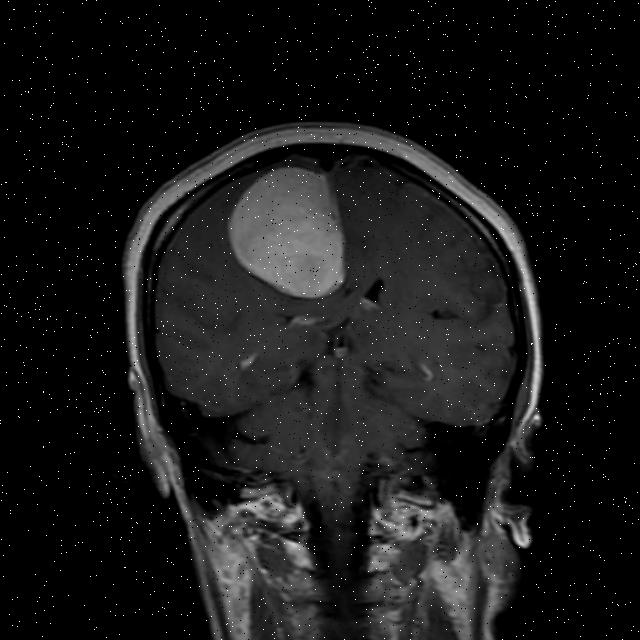Meningioma: (221, 157, 352, 307)
